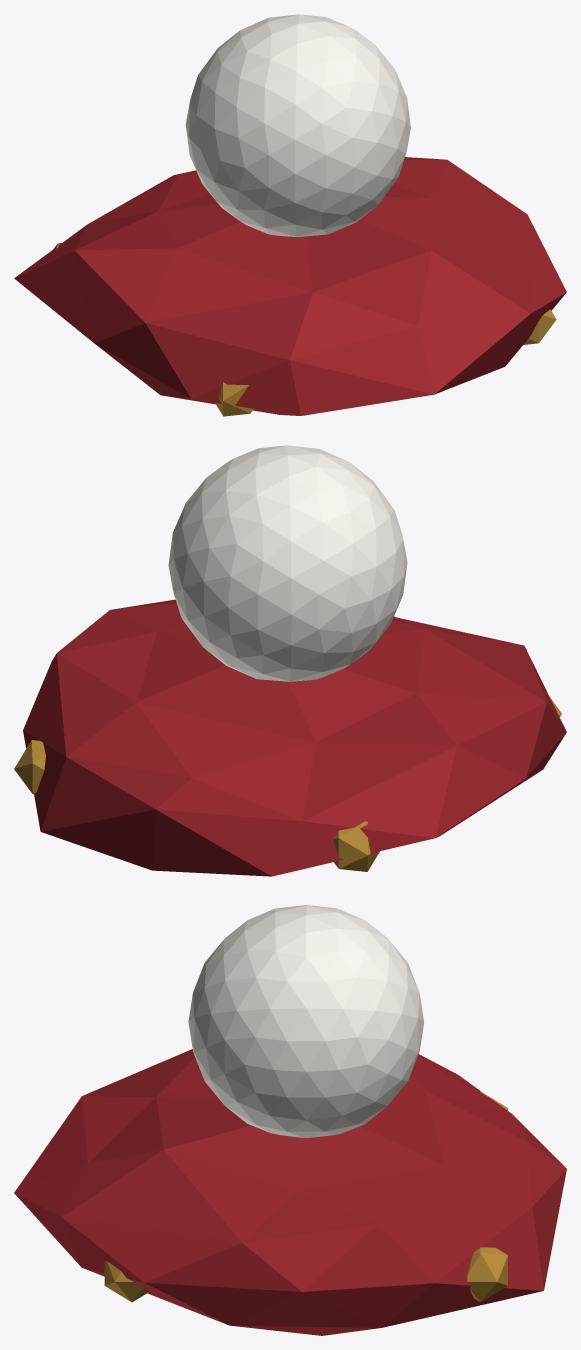
Rendered from ZB_obje_inci.glb.
The picture shows the model from 3 angles, top to bottom: view 1: azimuth 30°, elevation 25°; view 2: azimuth 150°, elevation 25°; view 3: azimuth 270°, elevation 25°; orthographic projection. The views are drawn at different scales.
Parts seen in each view (by area): view 1: ZB_obje_inci; view 2: ZB_obje_inci; view 3: ZB_obje_inci.
Boxes of the visible parts, <box> form: ZB_obje_inci: <box>14,14,566,416</box>; ZB_obje_inci: <box>14,445,566,876</box>; ZB_obje_inci: <box>14,905,566,1335</box>.
Size of the model in its own units: 0.2475 by 0.1838 by 0.258.
